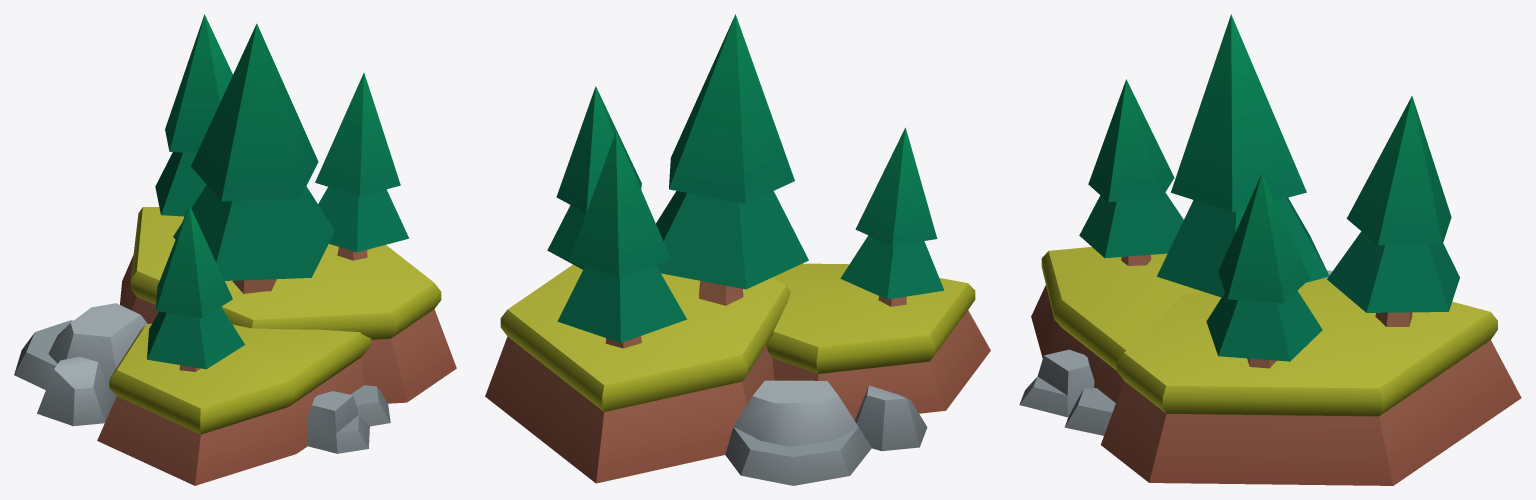
File: kaykit-medieval-hexagon-pack-hills-b-trees.glb
The picture shows the model from 3 angles, left to right: view 1: azimuth 30°, elevation 25°; view 2: azimuth 150°, elevation 25°; view 3: azimuth 270°, elevation 25°; orthographic projection. The views are drawn at different scales.
Parts seen in each view (by area): view 1: hills_B_trees; view 2: hills_B_trees; view 3: hills_B_trees.
Boxes of the visible parts, left/top/right/bottom form: hills_B_trees: left=14, top=14, right=456, bottom=485; hills_B_trees: left=485, top=14, right=990, bottom=485; hills_B_trees: left=1019, top=14, right=1521, bottom=485.
Size of the model in its own units: 1.47 by 1.37 by 1.62.
1 material, 1 textured.
